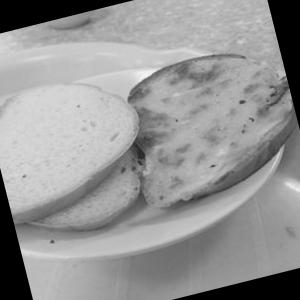bread: (0, 48, 162, 257)
cheese_sandwich: (109, 25, 300, 225)
